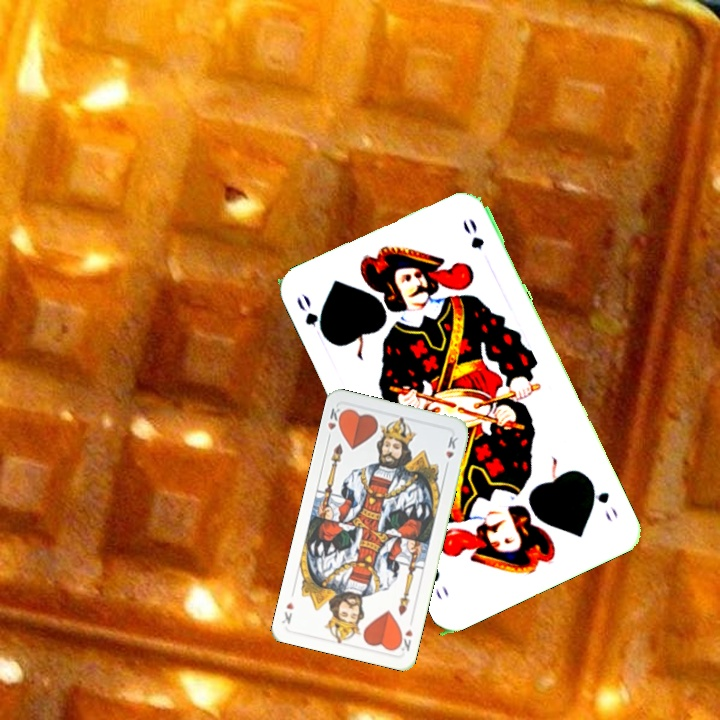GO: (292, 290, 331, 343), (585, 475, 621, 524)
HK: (324, 404, 346, 433), (394, 625, 415, 654)
